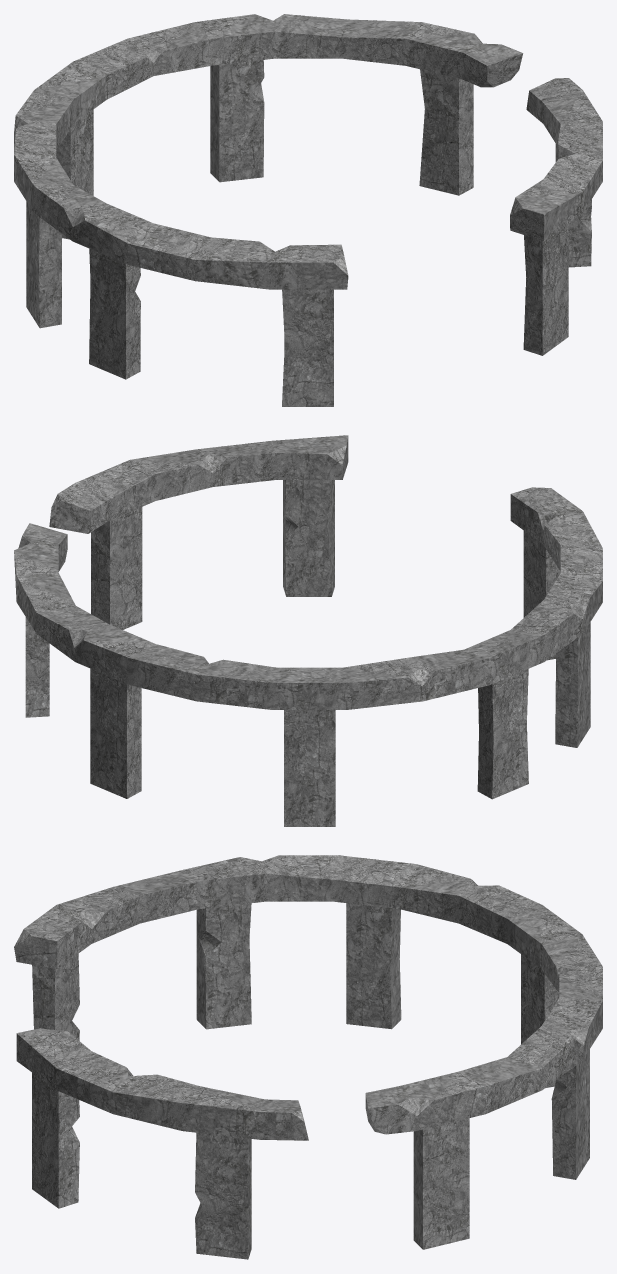
Rendered from materials_3_handrail_1.fbx.
The picture shows the model from 3 angles, top to bottom: view 1: azimuth 30°, elevation 25°; view 2: azimuth 150°, elevation 25°; view 3: azimuth 270°, elevation 25°; orthographic projection. The views are drawn at different scales.
Visible parts, largest first — view 1: materials_3_handrail_1; view 2: materials_3_handrail_1; view 3: materials_3_handrail_1.
Boxes of the visible parts, left/top/right/bottom form: materials_3_handrail_1: left=14, top=14, right=602, bottom=406; materials_3_handrail_1: left=14, top=435, right=602, bottom=826; materials_3_handrail_1: left=14, top=855, right=602, bottom=1259.
Size of the model in its own units: 540 by 150 by 522.
